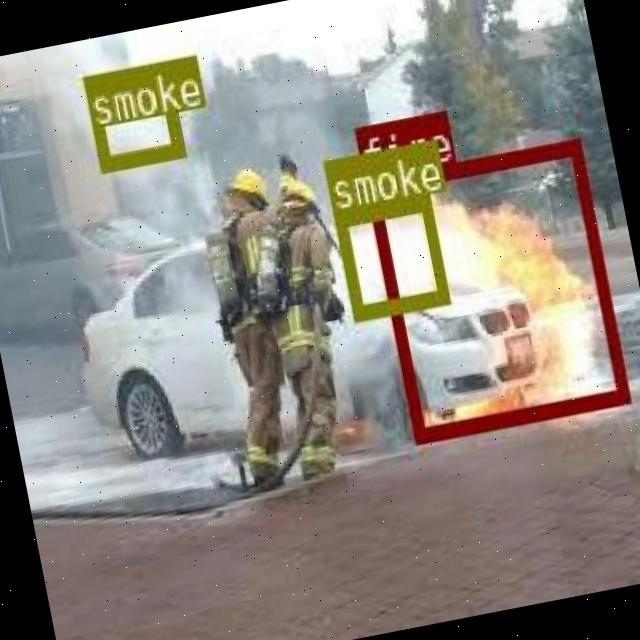fire: (362, 138, 627, 444)
smoke: (332, 193, 448, 318), (81, 61, 182, 169)
